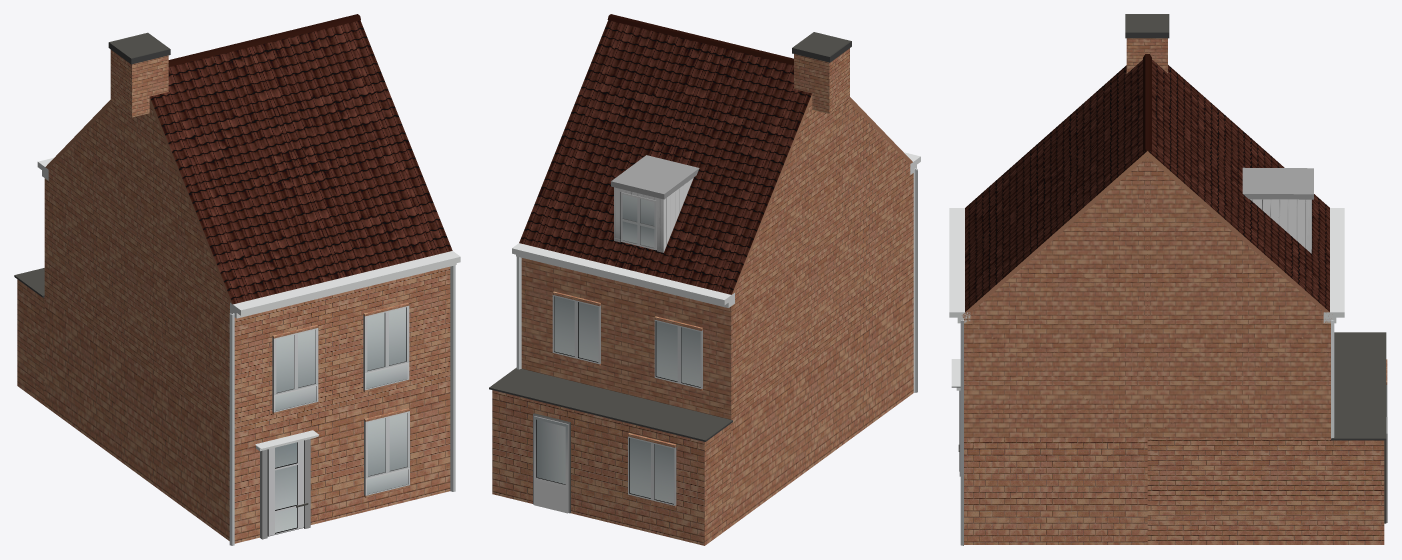
Rendered from Dwershus_12_en_It_Uleboerd_67.fbx.
3 views of the same model, side by side, from view 1: azimuth 30°, elevation 25°; view 2: azimuth 150°, elevation 25°; view 3: azimuth 270°, elevation 25° (orthographic). The views are drawn at different scales.
Visible parts, largest first — view 1: Dwershus_12_en_It_Uleboerd_67; view 2: Dwershus_12_en_It_Uleboerd_67; view 3: Dwershus_12_en_It_Uleboerd_67.
Part boxes in pixels (x1=…): Dwershus_12_en_It_Uleboerd_67: x1=14, y1=14, x2=460, y2=545; Dwershus_12_en_It_Uleboerd_67: x1=489, y1=14, x2=920, y2=545; Dwershus_12_en_It_Uleboerd_67: x1=949, y1=14, x2=1387, y2=545.
Size of the model in its own units: 657 by 1120 by 1064.
